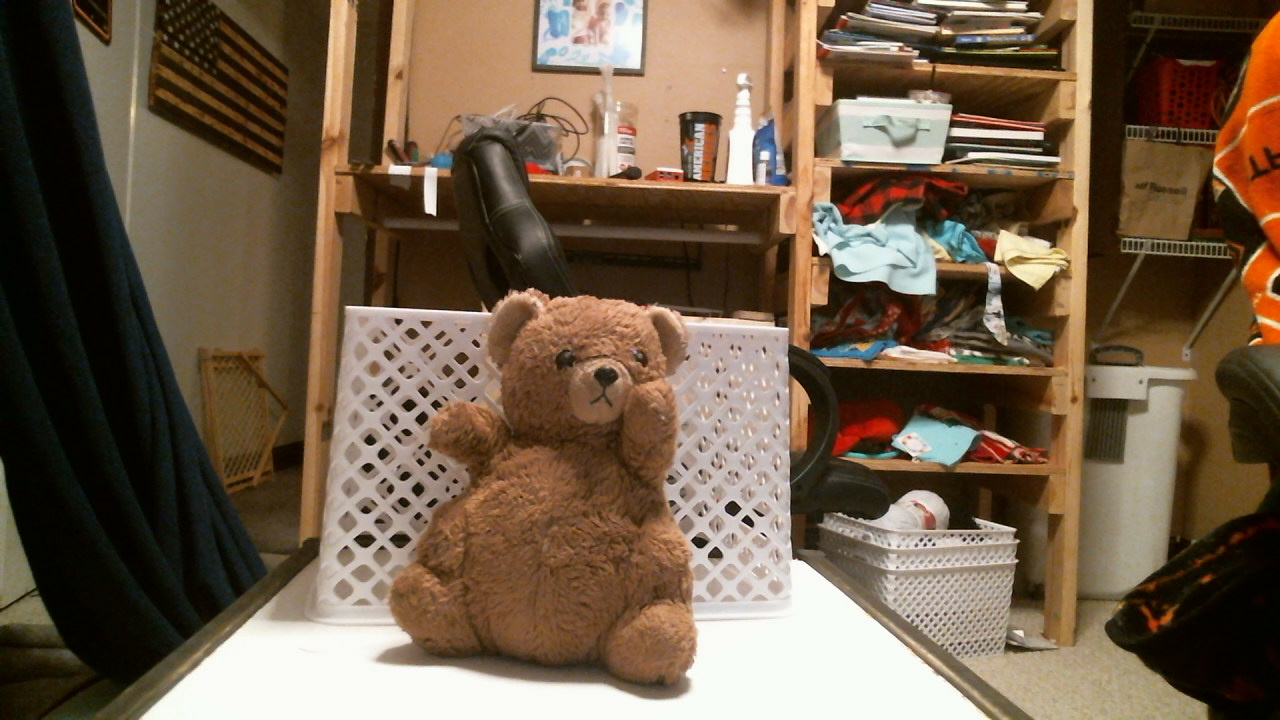Little_Mister_Bear: (538, 348, 660, 421)
